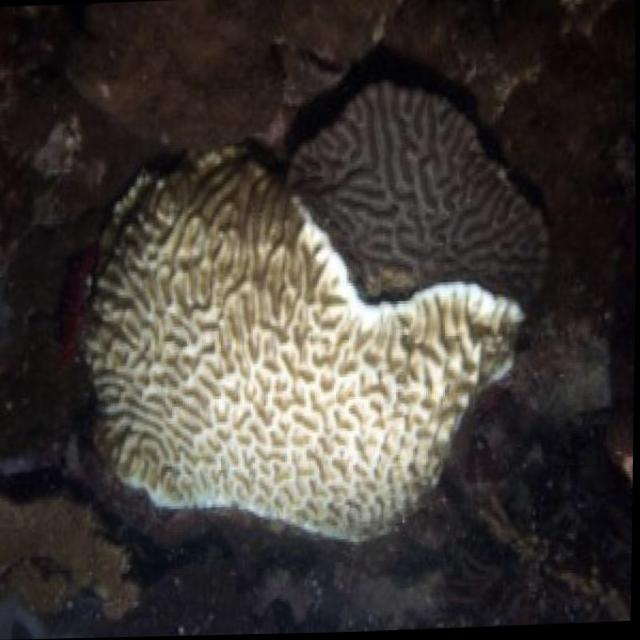Bleached Coral: (56, 240, 528, 549)
